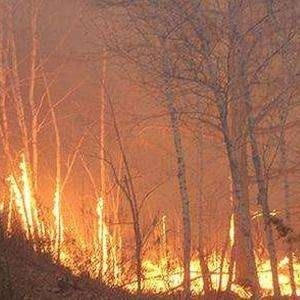fire: (16, 164, 299, 298)
